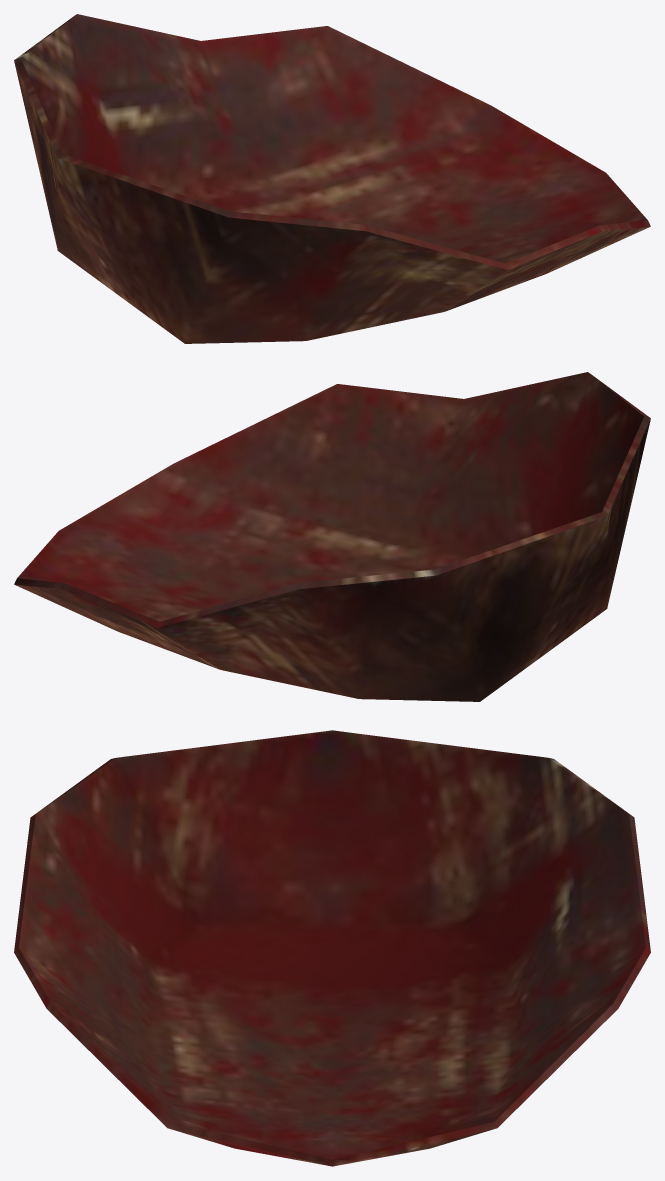
File: WeighingVesse.FBX
The picture shows the model from 3 angles, top to bottom: view 1: azimuth 30°, elevation 25°; view 2: azimuth 150°, elevation 25°; view 3: azimuth 270°, elevation 25°; orthographic projection. The views are drawn at different scales.
Visible parts, largest first — view 1: WeighingVessel; view 2: WeighingVessel; view 3: WeighingVessel.
Part boxes in pixels (x1,y1,x2,y2): WeighingVessel: [14, 14, 650, 343]; WeighingVessel: [14, 372, 650, 701]; WeighingVessel: [14, 730, 650, 1166].
Size of the model in its own units: 49.46 by 16.64 by 48.17.
